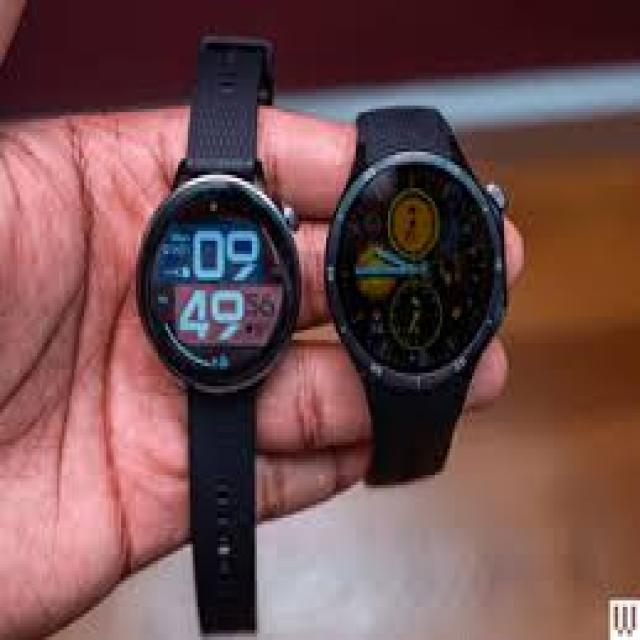objects: (141, 40, 297, 630), (326, 106, 502, 478)
